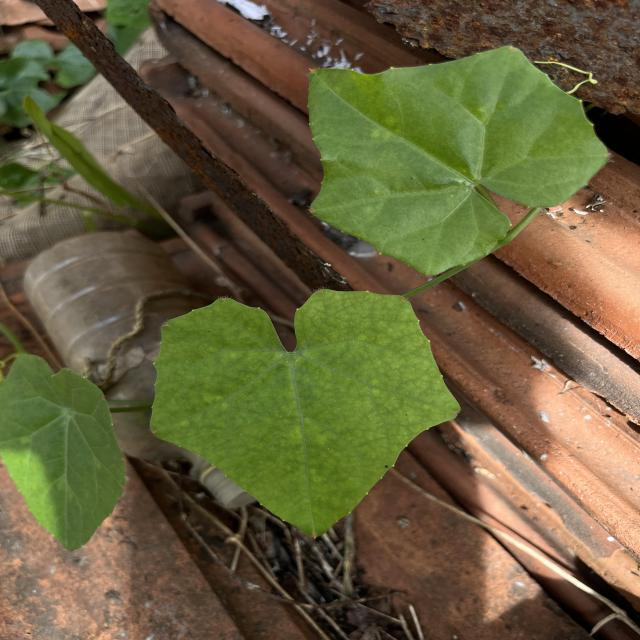Coccinia grandis: (146, 286, 464, 542), (302, 44, 612, 278)
